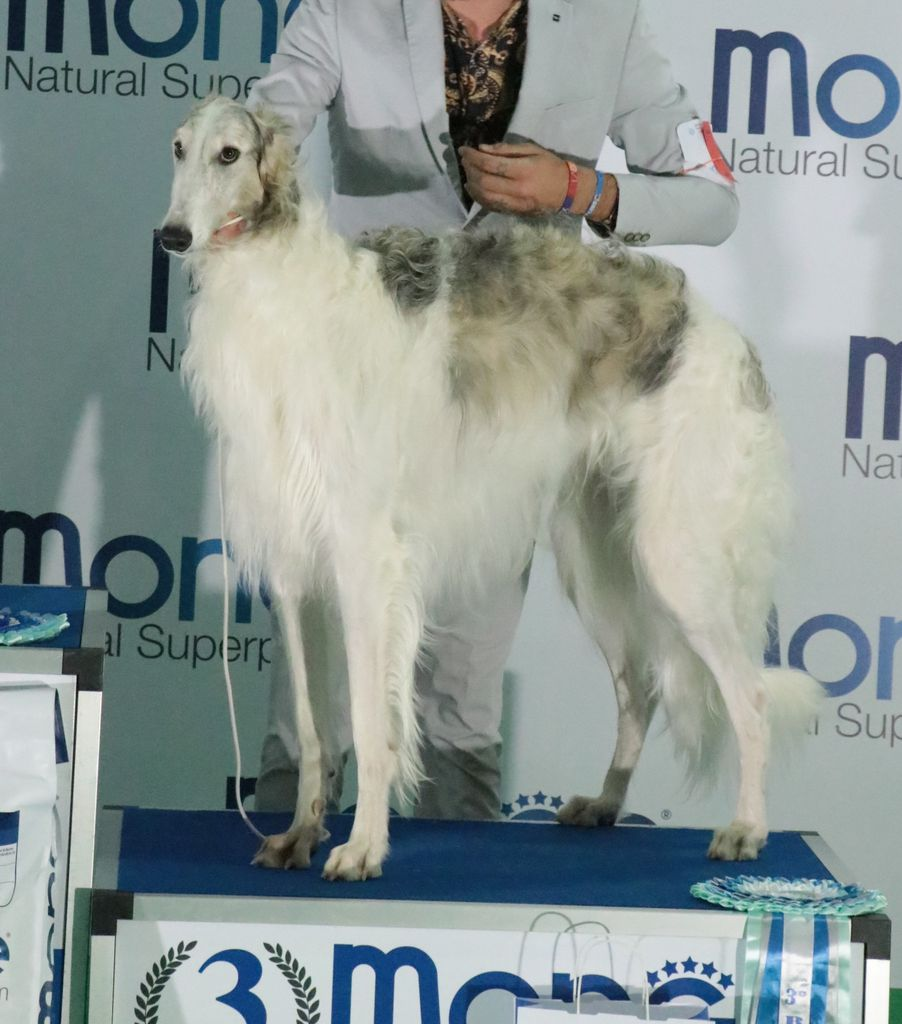borzoi: (148, 82, 819, 902)
